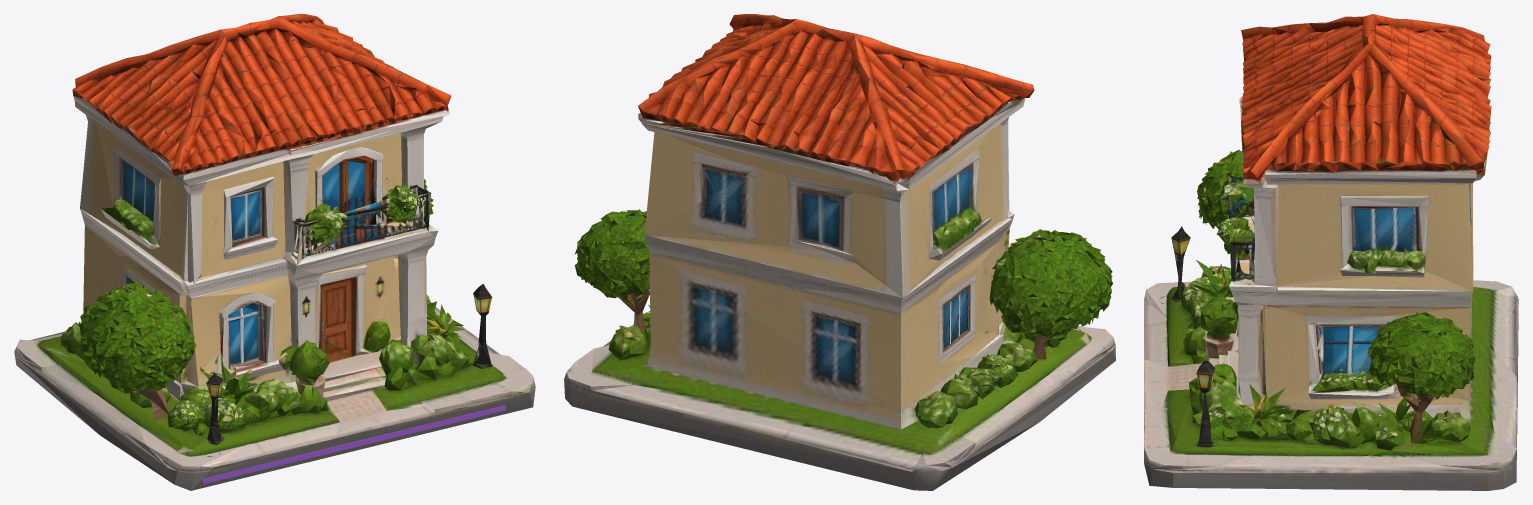
Rendered from property-level-2-meshy-v1.glb.
The picture shows the model from 3 angles, left to right: view 1: azimuth 30°, elevation 25°; view 2: azimuth 150°, elevation 25°; view 3: azimuth 270°, elevation 25°; orthographic projection. The views are drawn at different scales.
Visible parts, largest first — view 1: PROPERTY_LEVEL_2; view 2: PROPERTY_LEVEL_2; view 3: PROPERTY_LEVEL_2.
Part boxes in pixels (<box>): PROPERTY_LEVEL_2: <box>14,14,535,490</box>; PROPERTY_LEVEL_2: <box>564,14,1115,490</box>; PROPERTY_LEVEL_2: <box>1144,14,1518,490</box>.
Bounding box in the file's own units: 1 × 0.8056 × 0.7463.
2 materials, 1 textured.
